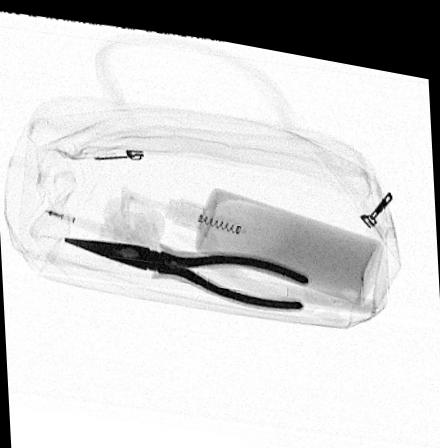Pliers: (61, 233, 310, 299)
